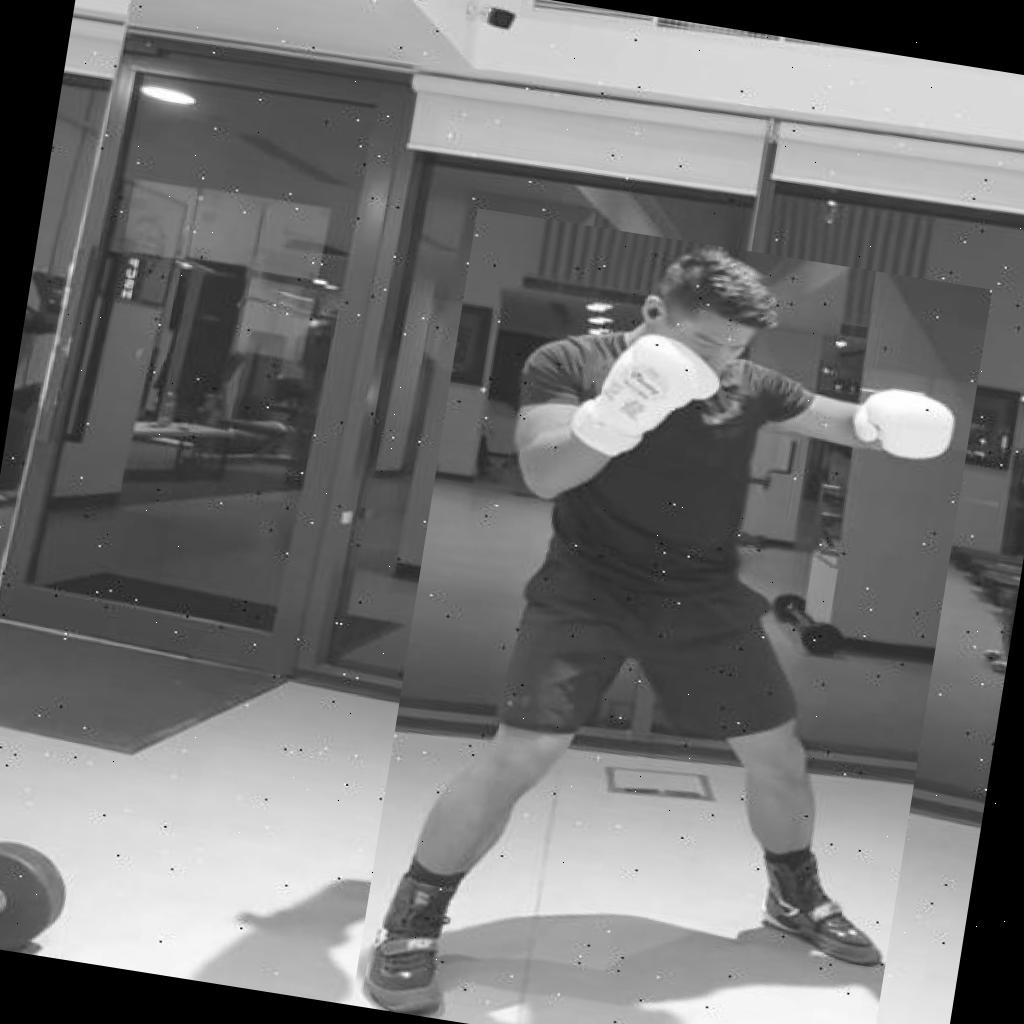hook: (351, 207, 992, 1024)
